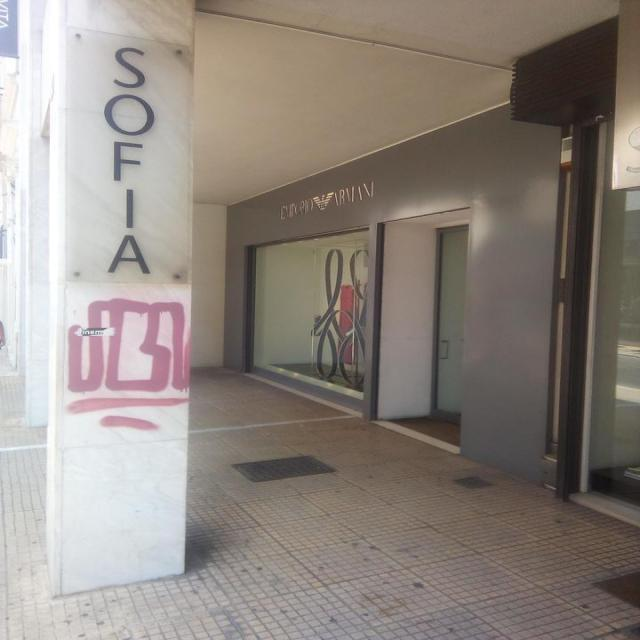nonspitting: (66, 298, 190, 433)
spitting: (105, 46, 155, 274)
